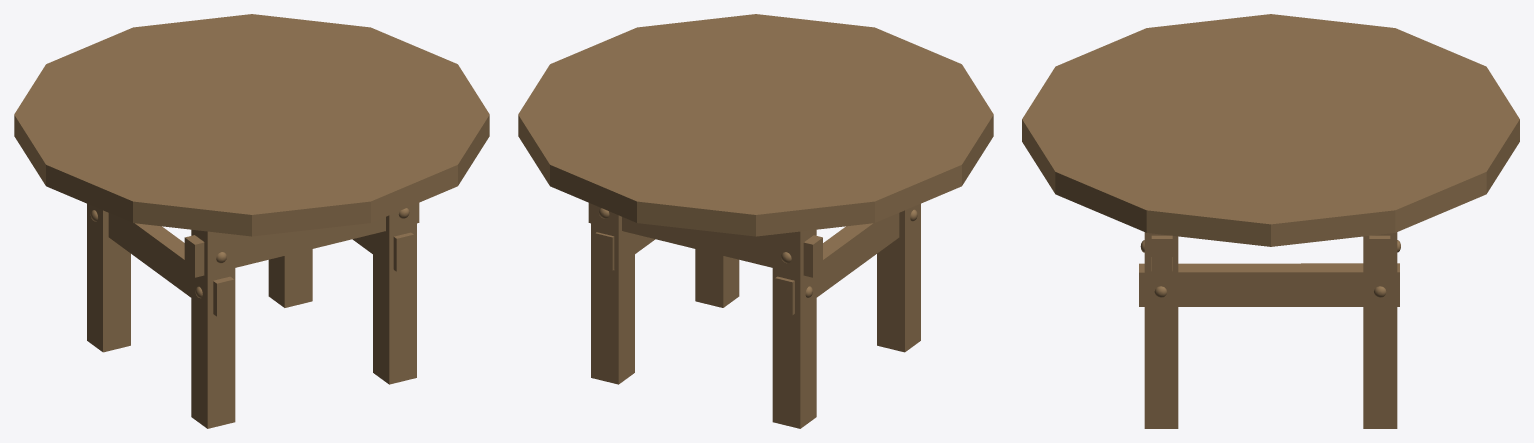
Rendered from table01.fbx.
The picture shows the model from 3 angles, left to right: view 1: azimuth 30°, elevation 25°; view 2: azimuth 150°, elevation 25°; view 3: azimuth 270°, elevation 25°; orthographic projection. The views are drawn at different scales.
Visible parts, largest first — view 1: circleTable01:TableTop, circleTable01:leg01, circleTable01:leg02, circleTable01:leg04, circleTable01:rightLegSupport3, circleTable01:rightLegSupport1, circleTable01:leg03, circleTable01:rightLegSupport; view 2: circleTable01:TableTop, circleTable01:leg04, circleTable01:leg03, circleTable01:leg01, circleTable01:rightLegSupport3, circleTable01:rightLegSupport2, circleTable01:leg02, circleTable01:rightLegSupport; view 3: circleTable01:TableTop, circleTable01:rightLegSupport, circleTable01:leg03, circleTable01:leg02, circleTable01:rightLegSupport2, circleTable01:rightLegSupport1.
Part boxes in pixels (left/top/right/bottom): circleTable01:TableTop: left=14, top=14, right=489, bottom=236; circleTable01:leg01: left=191, top=229, right=235, bottom=428; circleTable01:leg02: left=373, top=203, right=416, bottom=384; circleTable01:leg04: left=87, top=203, right=130, bottom=352; circleTable01:rightLegSupport3: left=108, top=213, right=234, bottom=316; circleTable01:rightLegSupport1: left=184, top=203, right=419, bottom=277; circleTable01:leg03: left=268, top=249, right=312, bottom=307; circleTable01:rightLegSupport: left=352, top=232, right=413, bottom=271; circleTable01:TableTop: left=518, top=14, right=993, bottom=236; circleTable01:leg04: left=772, top=229, right=816, bottom=428; circleTable01:leg03: left=591, top=204, right=634, bottom=384; circleTable01:leg01: left=877, top=204, right=920, bottom=352; circleTable01:rightLegSupport3: left=775, top=213, right=899, bottom=315; circleTable01:rightLegSupport2: left=588, top=203, right=822, bottom=277; circleTable01:leg02: left=695, top=249, right=739, bottom=307; circleTable01:rightLegSupport: left=595, top=232, right=655, bottom=270; circleTable01:TableTop: left=1022, top=14, right=1519, bottom=246; circleTable01:rightLegSupport: left=1139, top=263, right=1399, bottom=306; circleTable01:leg03: left=1363, top=232, right=1397, bottom=428; circleTable01:leg02: left=1144, top=232, right=1178, bottom=428; circleTable01:rightLegSupport2: left=1369, top=235, right=1390, bottom=273; circleTable01:rightLegSupport1: left=1151, top=235, right=1172, bottom=273.
Size of the model in its own units: 3.28 by 1.86 by 3.28.
